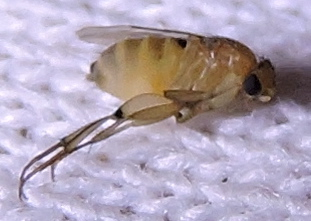phorid fly: (6, 7, 294, 210)
